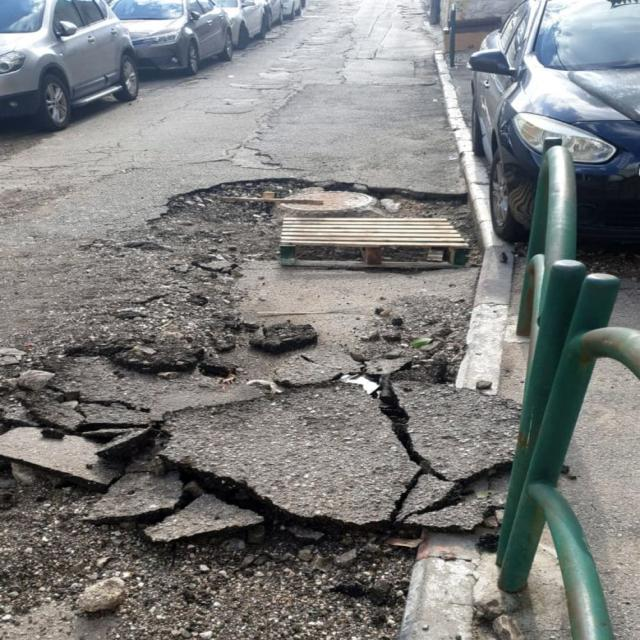major_pothole: (49, 176, 467, 406)
